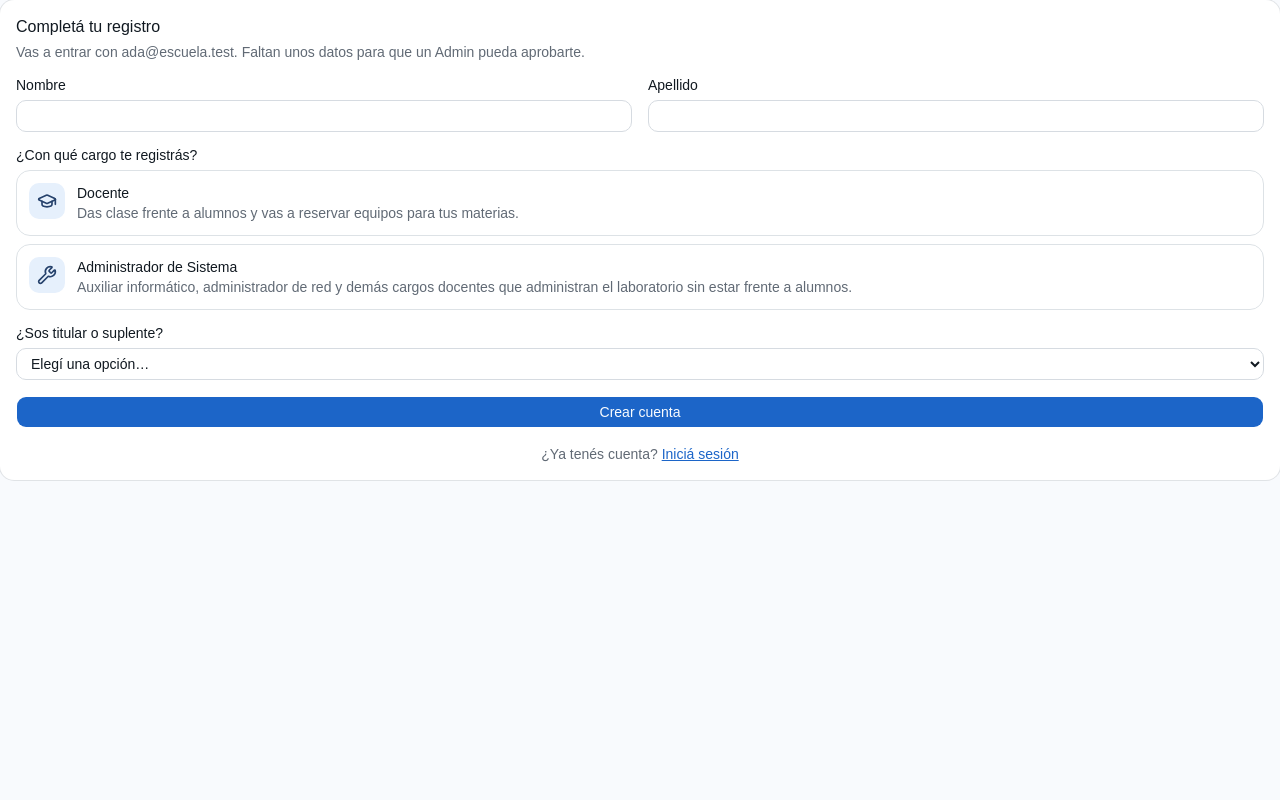
Test: RegistroConGoogle › exige nombre y apellido si el token no los trajo
Click the button "Crear cuenta": (640, 412) left=16, top=396, right=1264, bottom=428
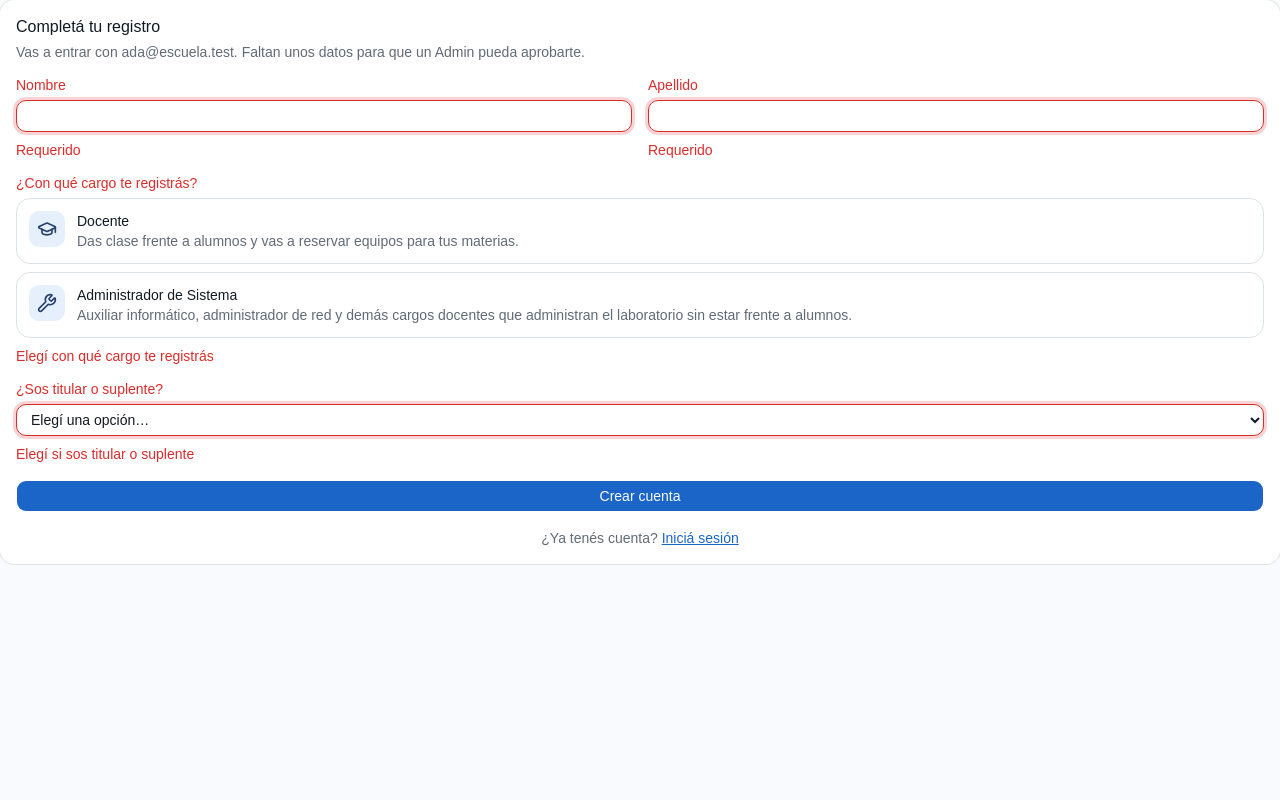
Expected: the text "Requerido" is shown 2 times, left=16, top=142, right=81, bottom=158; left=648, top=142, right=713, bottom=158
